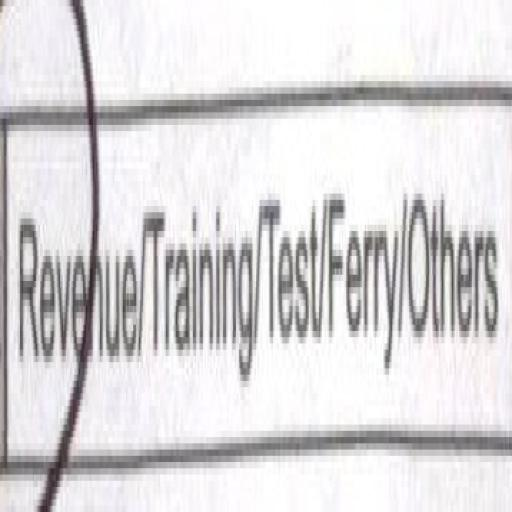check: (0, 50, 133, 512)
